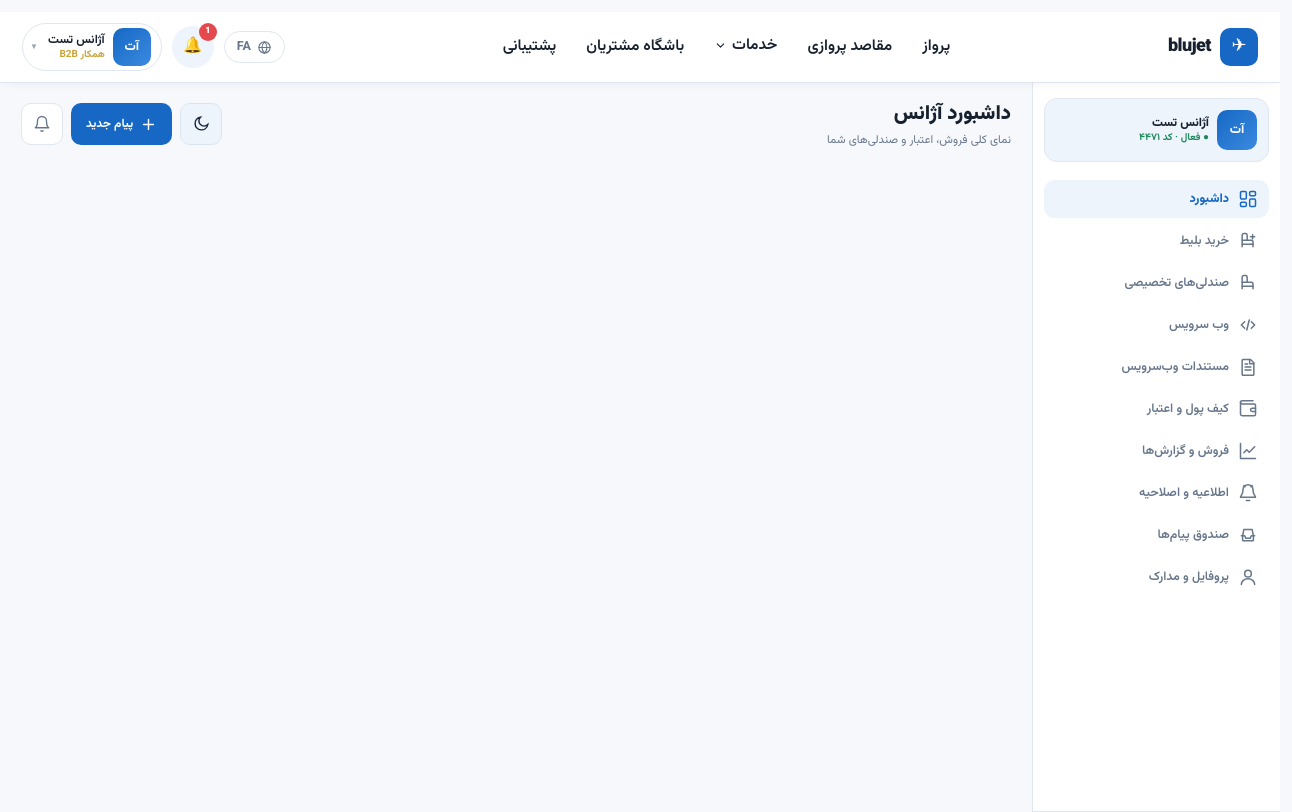
AgencyPortalShell logout › shows only the agency notifications returned by the scoped notification API
Check: the text with test id "agency-notif-badge" reads "1", box [205,24,210,38]
Click the element with test id "agency-notif-toggle" at point(193, 47), box [172,26,214,68]
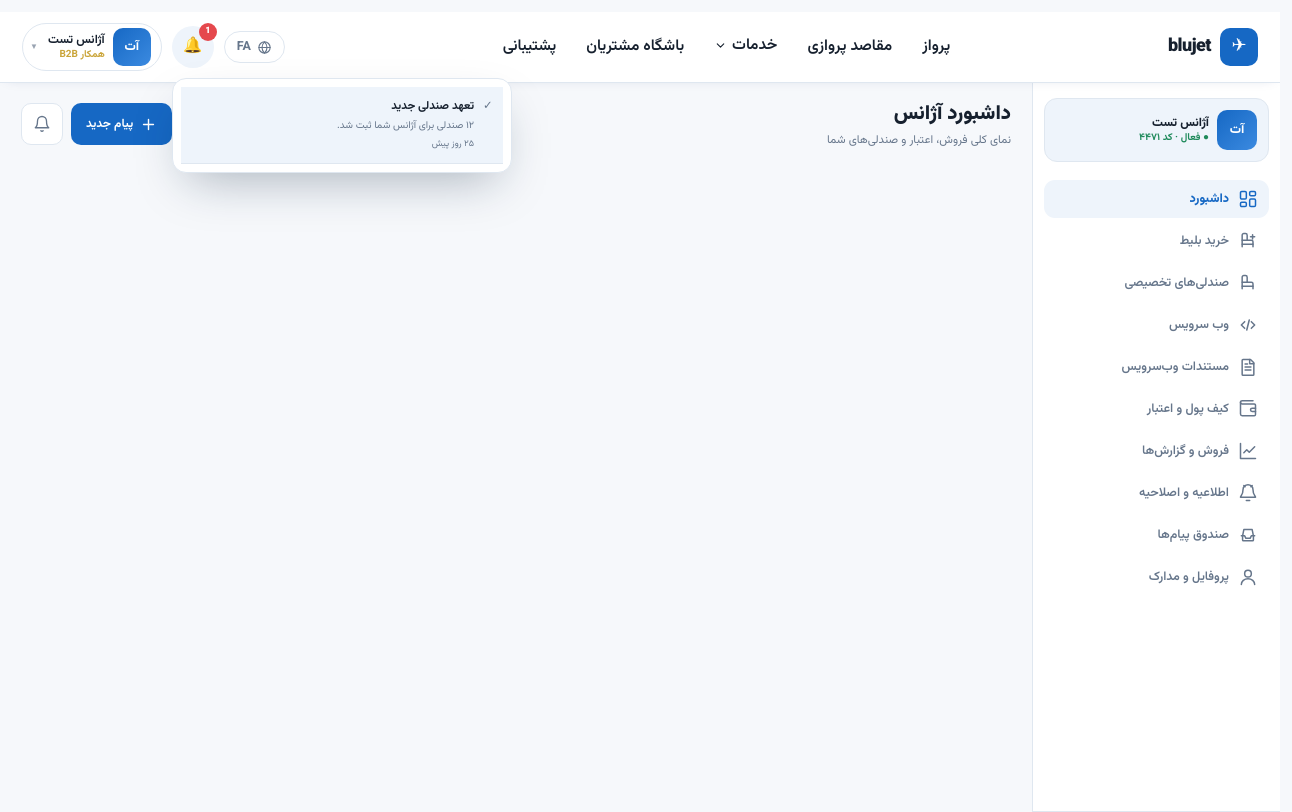
Check: the text "تعهد صندلی جدید" is shown, box [391,97,474,115]
